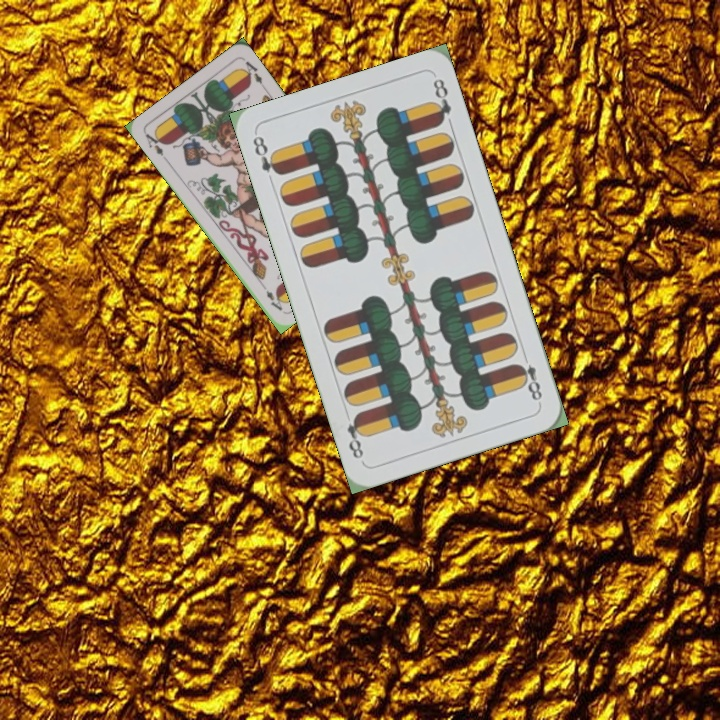E8: (512, 348, 545, 404), (249, 131, 284, 178)
EA: (142, 128, 170, 164)
